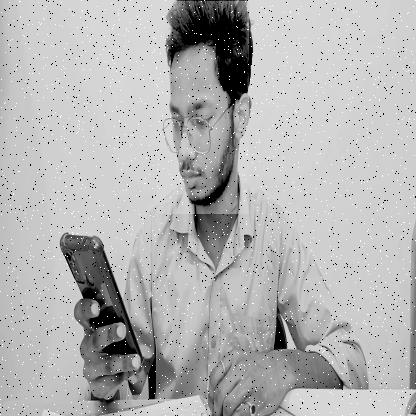Distracted: (157, 1, 249, 214)
